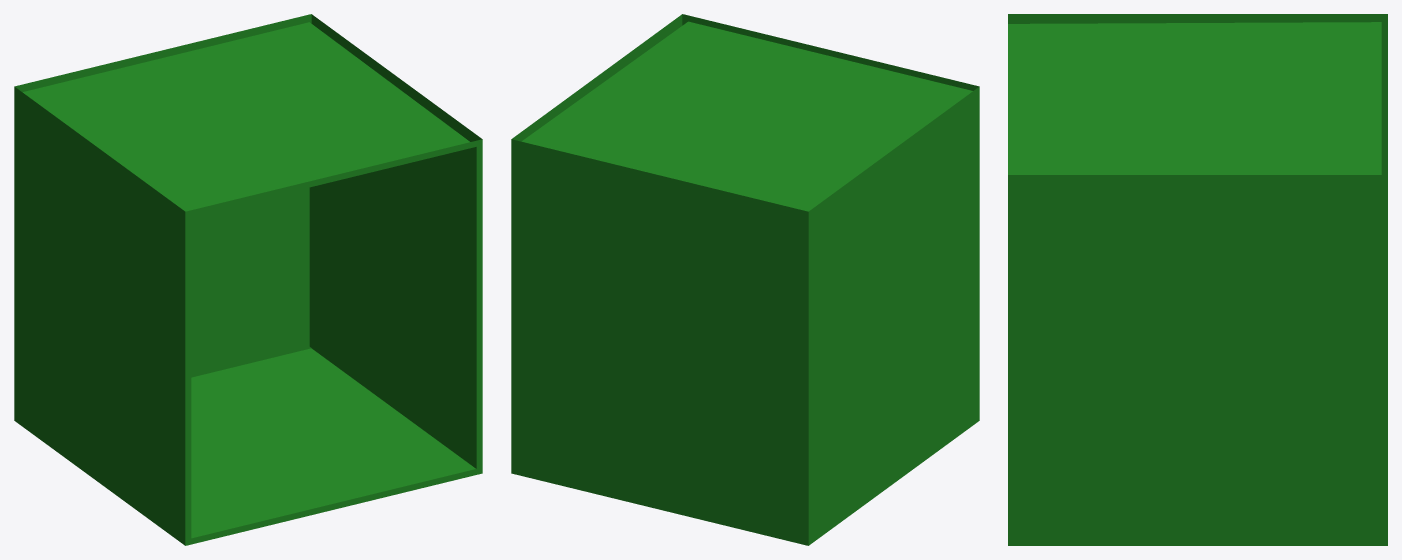
The model's file is Puzzle_002_Elevator_Cart_Sides.fbx.
3 views of the same model, side by side, from view 1: azimuth 30°, elevation 25°; view 2: azimuth 150°, elevation 25°; view 3: azimuth 270°, elevation 25° (orthographic). The views are drawn at different scales.
Visible parts, largest first — view 1: Puzzle_002_Elevator_Cart_Sides; view 2: Puzzle_002_Elevator_Cart_Sides; view 3: Puzzle_002_Elevator_Cart_Sides.
Part boxes in pixels (x1=…): Puzzle_002_Elevator_Cart_Sides: x1=14, y1=14, x2=482, y2=545; Puzzle_002_Elevator_Cart_Sides: x1=511, y1=14, x2=979, y2=545; Puzzle_002_Elevator_Cart_Sides: x1=1008, y1=14, x2=1387, y2=545.
Bounding box in the file's own units: 360 × 387 × 359.
